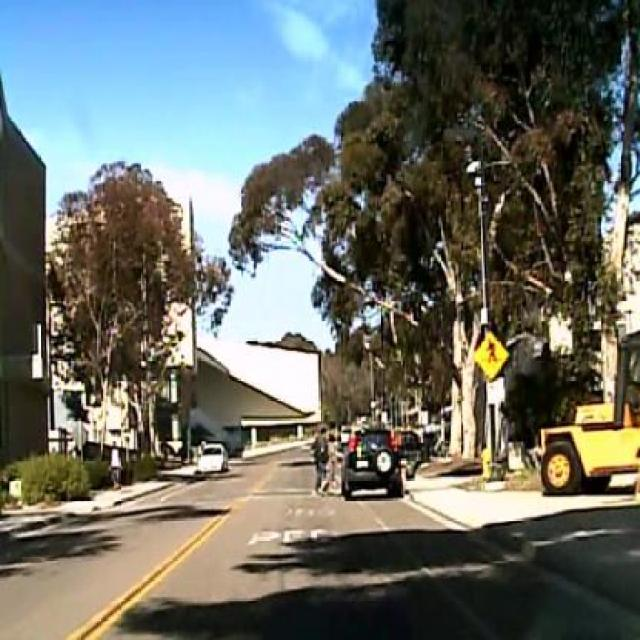pedestrianCrossing: (472, 329, 508, 380)
